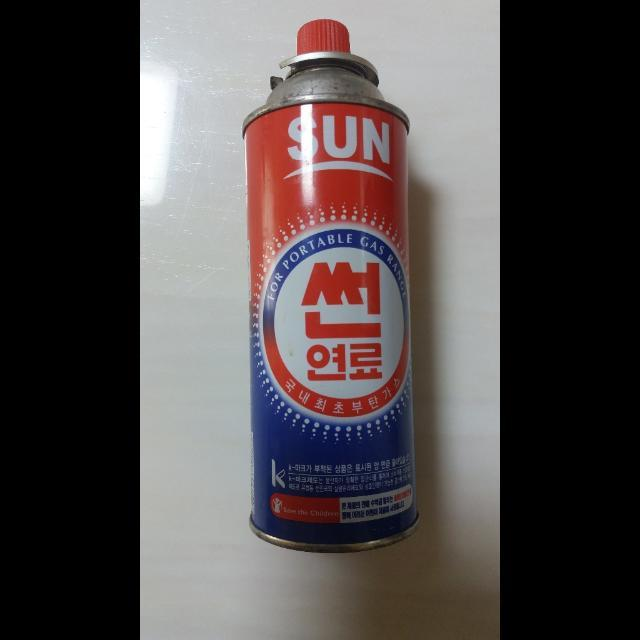chemical_spray_can: (230, 9, 444, 561)
